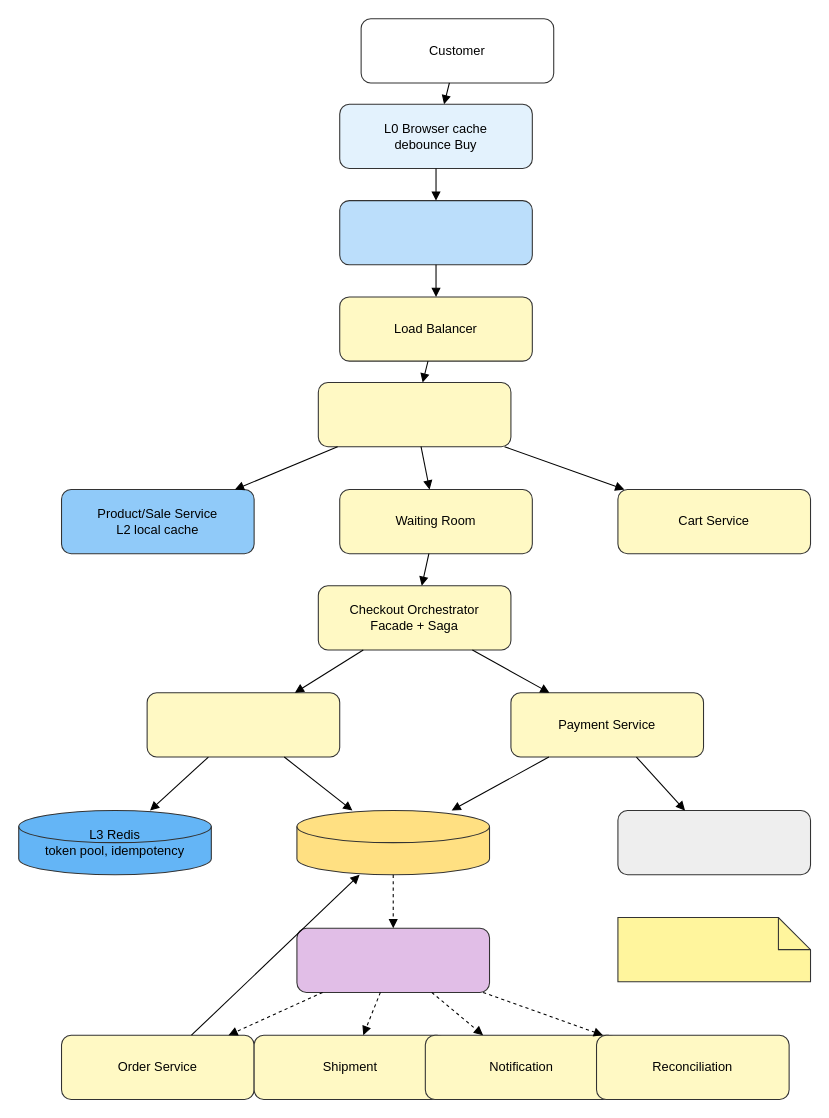
The diagram is 829 pixels wide and 1118 high, and some of its shapes have lost their labels. Each missing label, with the centre of its shape:
API Gateway JWT, rate limit, Idempotency-Key: (414,414)
Caches can say NO. Only the database can say YES.: (714,949)
Inventory & Reservation: (243,724)
Kafka (outbox relay): (393,959)
L1 CDN + WAF pages, SOLD_OUT flag: (435,232)
L4 Postgres source of truth: (393,842)
Payment Gateway Adapter + Circuit Breaker: (714,842)
